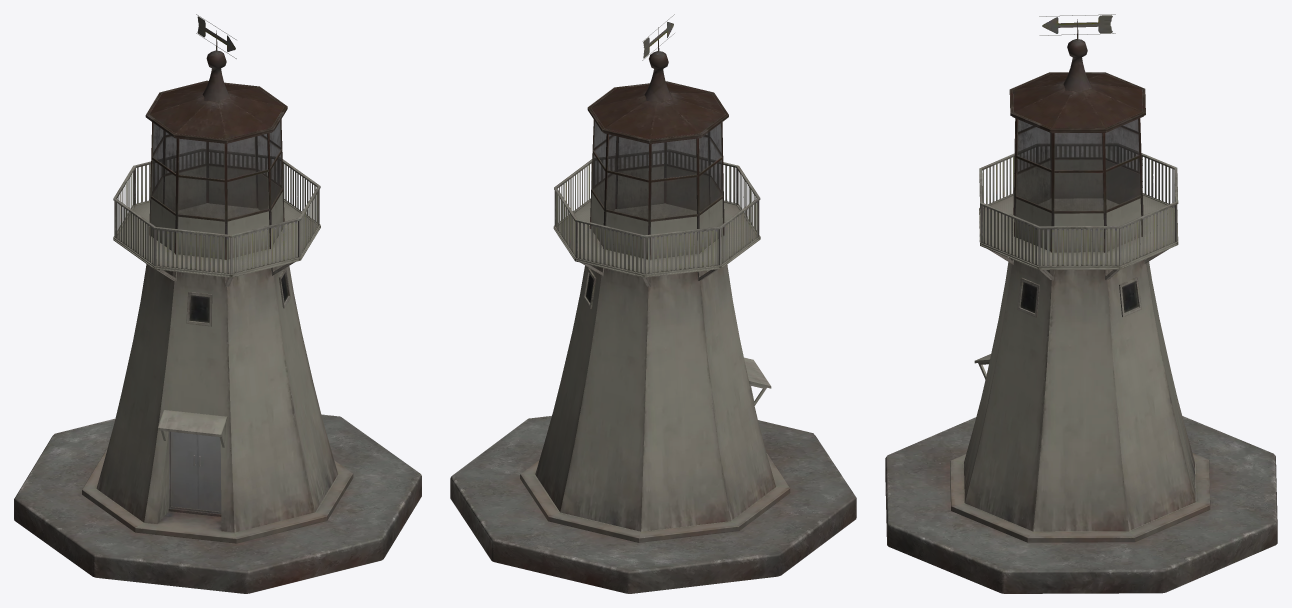
File: lighthouse2.glb
3 views of the same model, side by side, from view 1: azimuth 30°, elevation 25°; view 2: azimuth 150°, elevation 25°; view 3: azimuth 270°, elevation 25° (orthographic). The views are drawn at different scales.
Parts seen in each view (by area): view 1: lighthouse_v1_low; view 2: lighthouse_v1_low; view 3: lighthouse_v1_low.
Boxes of the visible parts, left/top/right/bottom form: lighthouse_v1_low: left=14, top=14, right=421, bottom=593; lighthouse_v1_low: left=450, top=14, right=856, bottom=593; lighthouse_v1_low: left=885, top=14, right=1277, bottom=593.
Size of the model in its own units: 811 by 1131 by 811.
3 materials, 3 textured.
